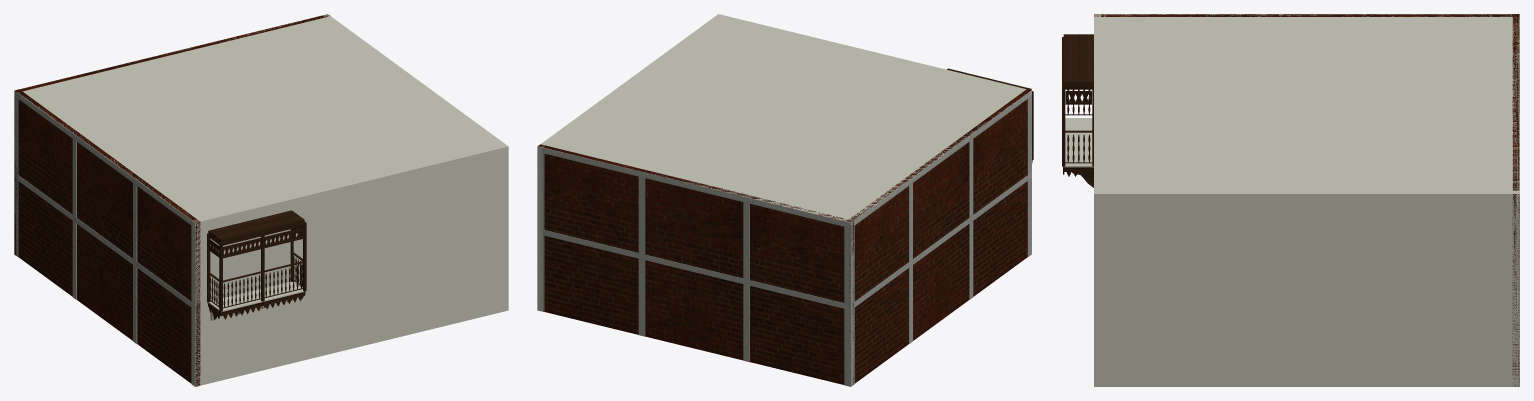
Rendered from building.glb.
The picture shows the model from 3 angles, left to right: view 1: azimuth 30°, elevation 25°; view 2: azimuth 150°, elevation 25°; view 3: azimuth 270°, elevation 25°; orthographic projection. The views are drawn at different scales.
Visible parts, largest first — view 1: roof/house:0/roof_slab#0001, house:0/edge0/z0/house:0/edge0/z0/wall_0_0, house:0/edge3/z0/house:0/edge3/z0/wall_0_0, balcony/sample/balcony_cover#0001, house:0/edge2/z0/house:0/edge2/z0/wall_0_0, house:0/edge3/z0/house:0/edge3/z0/beam_0_0, house:0/edge3/z0/house:0/edge3/z0/beam_1_0, house:0/edge1/z0/house:0/edge1/z0/wall_0_0, balcony/sample/balcony_platform#0001, balcony/sample/balcony_fretwork#0003, balcony/sample/balcony_fretwork#0002; view 2: roof/house:0/roof_slab#0001, house:0/edge2/z0/house:0/edge2/z0/wall_0_0, house:0/edge3/z0/house:0/edge3/z0/wall_0_0, house:0/edge1/z0/house:0/edge1/z0/wall_0_0, house:0/edge2/z0/house:0/edge2/z0/beam_0_0, house:0/edge2/z0/house:0/edge2/z0/beam_1_0, house:0/edge3/z0/house:0/edge3/z0/beam_0_0, house:0/edge0/z0/house:0/edge0/z0/wall_0_0, house:0/edge3/z0/house:0/edge3/z0/beam_1_0, house:0/edge2/z0/house:0/edge2/z0/column_2_0, house:0/edge2/z0/house:0/edge2/z0/column_1_1, house:0/edge2/z0/house:0/edge2/z0/column_2_1 (+3 smaller); view 3: house:0/edge1/z0/house:0/edge1/z0/wall_0_0, roof/house:0/roof_slab#0001, house:0/edge0/z0/house:0/edge0/z0/wall_0_0, house:0/edge2/z0/house:0/edge2/z0/wall_0_0, balcony/sample/balcony_cover#0001, house:0/edge3/z0/house:0/edge3/z0/wall_0_0, balcony/sample/balcony_platform#0001.
Boxes of the visible parts, x1,y1,x2,y2 form: roof/house:0/roof_slab#0001: (16, 15, 507, 225); house:0/edge0/z0/house:0/edge0/z0/wall_0_0: (192, 144, 508, 386); house:0/edge3/z0/house:0/edge3/z0/wall_0_0: (17, 89, 200, 386); balcony/sample/balcony_cover#0001: (208, 210, 304, 242); house:0/edge2/z0/house:0/edge2/z0/wall_0_0: (14, 14, 329, 255); house:0/edge3/z0/house:0/edge3/z0/beam_0_0: (14, 173, 195, 309); house:0/edge3/z0/house:0/edge3/z0/beam_1_0: (14, 91, 195, 228); house:0/edge1/z0/house:0/edge1/z0/wall_0_0: (323, 14, 508, 311); balcony/sample/balcony_platform#0001: (208, 281, 304, 312); balcony/sample/balcony_fretwork#0003: (264, 227, 303, 247); balcony/sample/balcony_fretwork#0002: (223, 238, 261, 258); roof/house:0/roof_slab#0001: (540, 14, 1031, 225); house:0/edge2/z0/house:0/edge2/z0/wall_0_0: (538, 144, 853, 384); house:0/edge3/z0/house:0/edge3/z0/wall_0_0: (846, 89, 1030, 383); house:0/edge1/z0/house:0/edge1/z0/wall_0_0: (537, 14, 721, 311); house:0/edge2/z0/house:0/edge2/z0/beam_0_0: (542, 230, 851, 310); house:0/edge2/z0/house:0/edge2/z0/beam_1_0: (538, 146, 851, 228); house:0/edge3/z0/house:0/edge3/z0/beam_0_0: (850, 172, 1031, 309); house:0/edge0/z0/house:0/edge0/z0/wall_0_0: (716, 14, 1031, 253); house:0/edge3/z0/house:0/edge3/z0/beam_1_0: (850, 90, 1031, 227); house:0/edge2/z0/house:0/edge2/z0/column_2_0: (638, 177, 645, 254); house:0/edge2/z0/house:0/edge2/z0/column_1_1: (844, 227, 851, 304); house:0/edge2/z0/house:0/edge2/z0/column_2_1: (638, 259, 645, 336); house:0/edge1/z0/house:0/edge1/z0/wall_0_0: (1094, 191, 1519, 386); roof/house:0/roof_slab#0001: (1094, 14, 1519, 198); house:0/edge0/z0/house:0/edge0/z0/wall_0_0: (1094, 14, 1100, 386); house:0/edge2/z0/house:0/edge2/z0/wall_0_0: (1512, 14, 1519, 386); balcony/sample/balcony_cover#0001: (1063, 34, 1093, 85); house:0/edge3/z0/house:0/edge3/z0/wall_0_0: (1094, 14, 1519, 16); balcony/sample/balcony_platform#0001: (1064, 118, 1093, 167).
Bounding box in the file's own units: 12 × 6 × 12.89.
4 materials, 2 textured.
